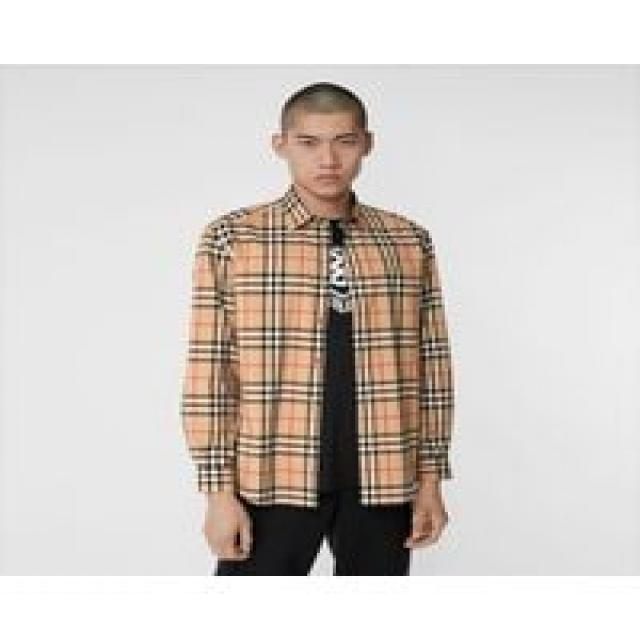plaid: (160, 194, 514, 528)
